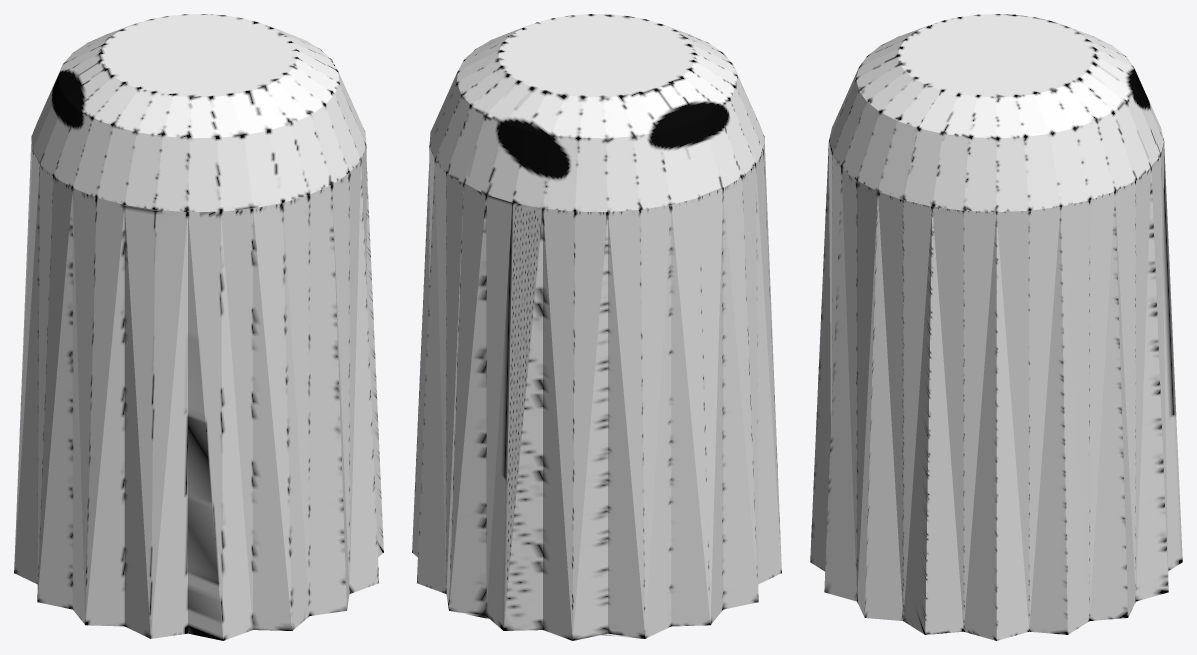
The model's file is ghost.obj.
The picture shows the model from 3 angles, left to right: view 1: azimuth 30°, elevation 25°; view 2: azimuth 150°, elevation 25°; view 3: azimuth 270°, elevation 25°; orthographic projection.
Parts seen in each view (by area): view 1: Cylinder; view 2: Cylinder; view 3: Cylinder.
Part boxes in pixels (x1,y1,x2,y2): Cylinder: (14,14,383,640); Cylinder: (412,14,781,640); Cylinder: (810,14,1182,640).
Size of the model in its own units: 2 by 3 by 2.
Materials: 1 (1 with a texture image).
